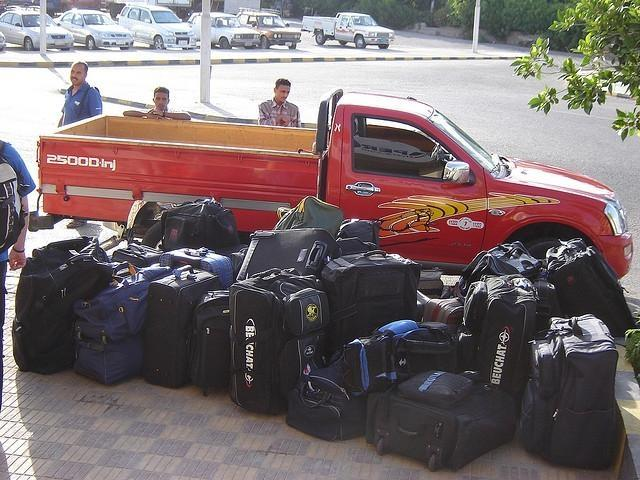car: (116, 2, 200, 51), (52, 9, 132, 51), (0, 10, 74, 51), (237, 7, 306, 49), (188, 11, 260, 50), (0, 32, 7, 52)
truck: (39, 88, 639, 278), (302, 12, 393, 50)
